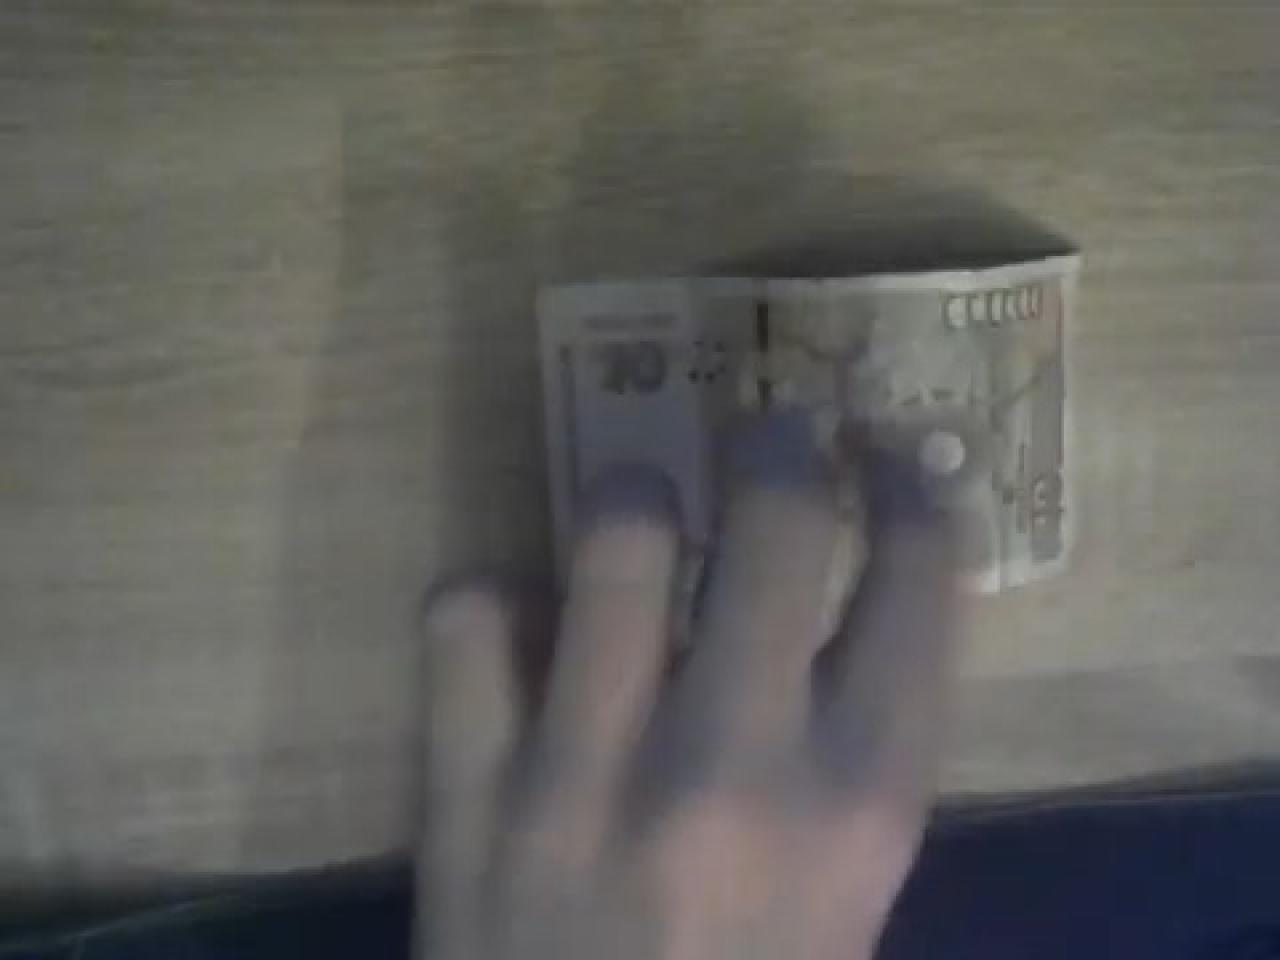10leva: (538, 248, 1080, 592)
